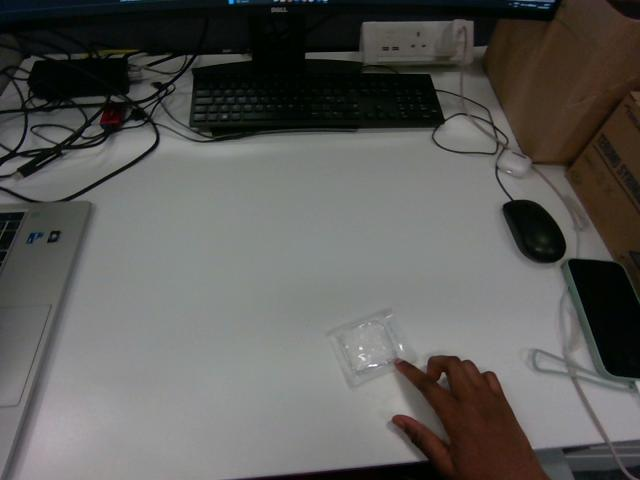gauze: (328, 309, 415, 386)
